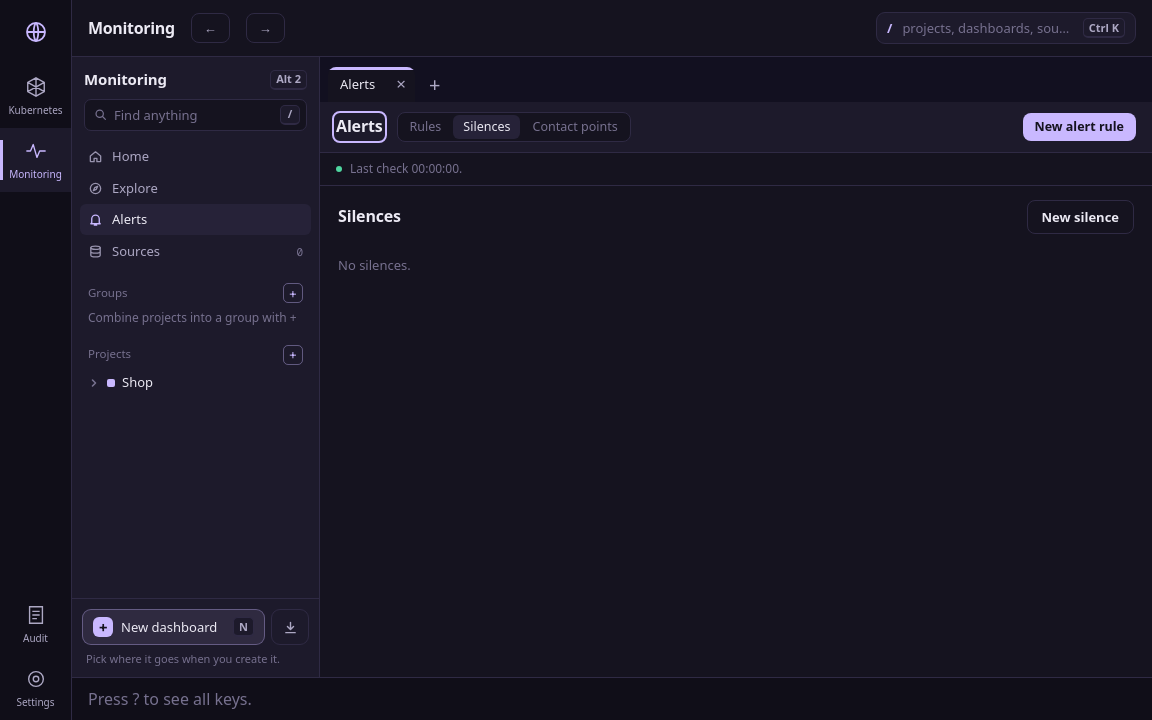
Test: leaving a silence or contact point being written › the sidebar asks first; Stay keeps it, Discard changes leaves
The width and height of the screenshot is (1152, 720).
Click the button "New silence". click: (1080, 217)
box: [1026,200,1134,234]
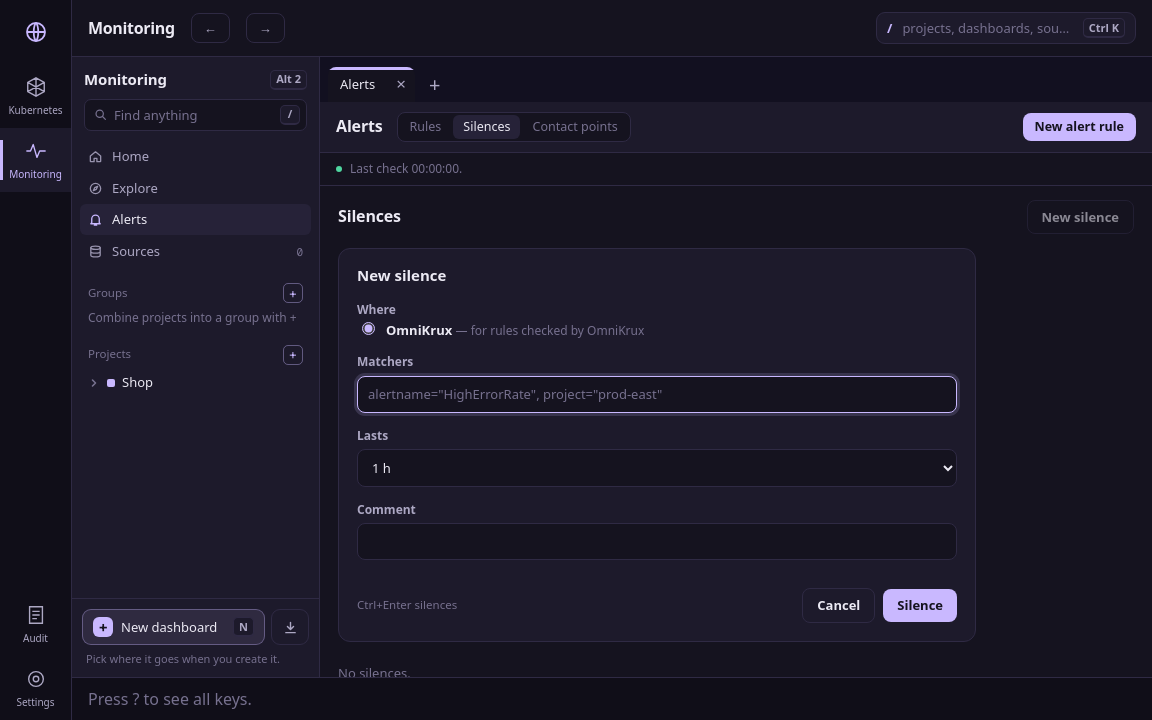
Type "alertname=\"A\"" into the field labelled "Matchers". click: (657, 394)
box: [357,376,957,412]
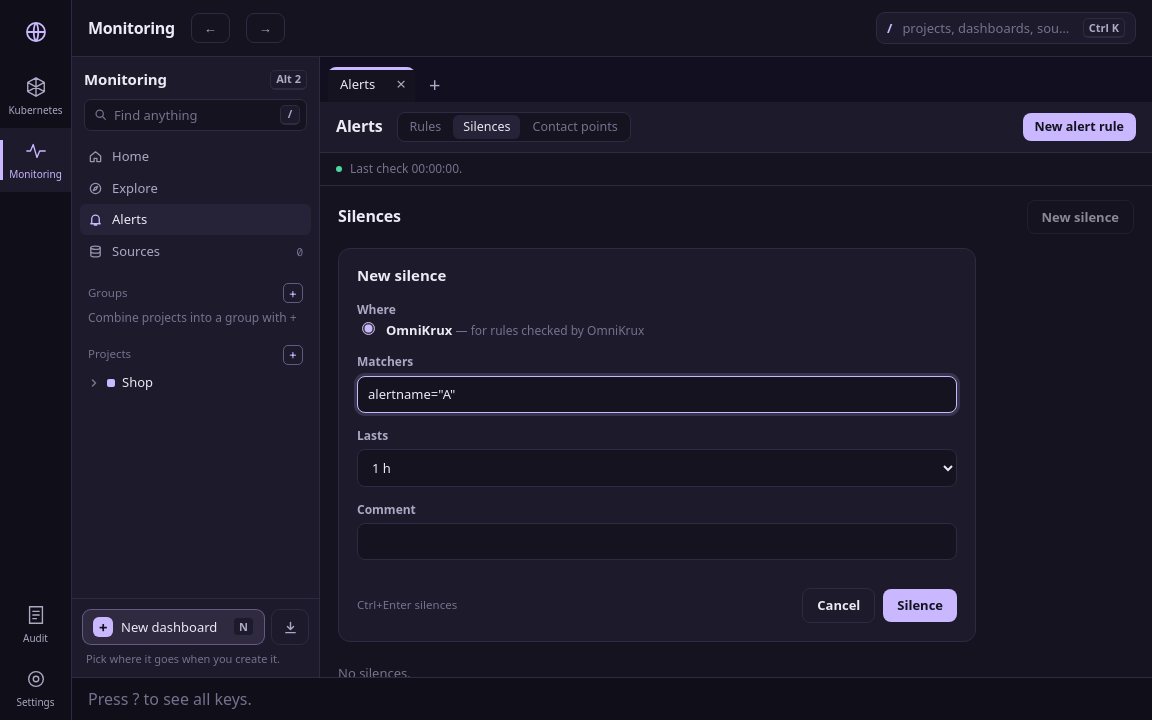
Click the list item "Shop". click: (121, 382)
box: [89,373,153,391]
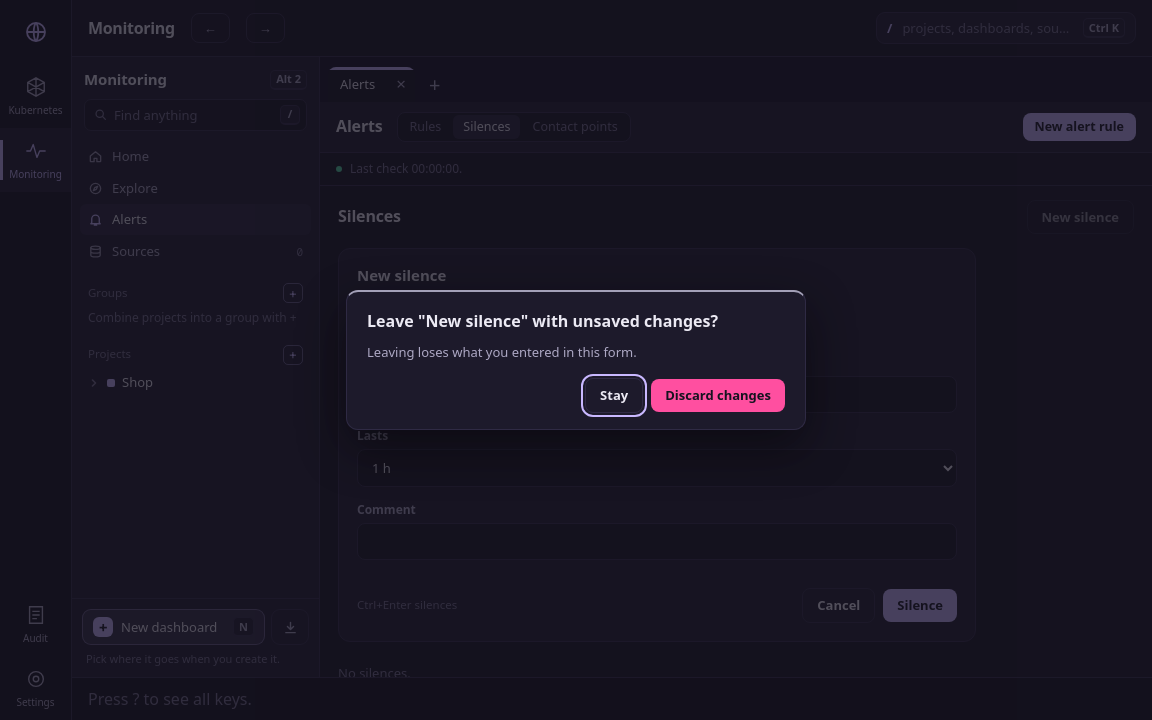
Result: the text "Leaving loses what you entered in this form." is shown at [367,343,637,361]
Click the button "Stay". click: (614, 395)
box: [585,378,643,412]
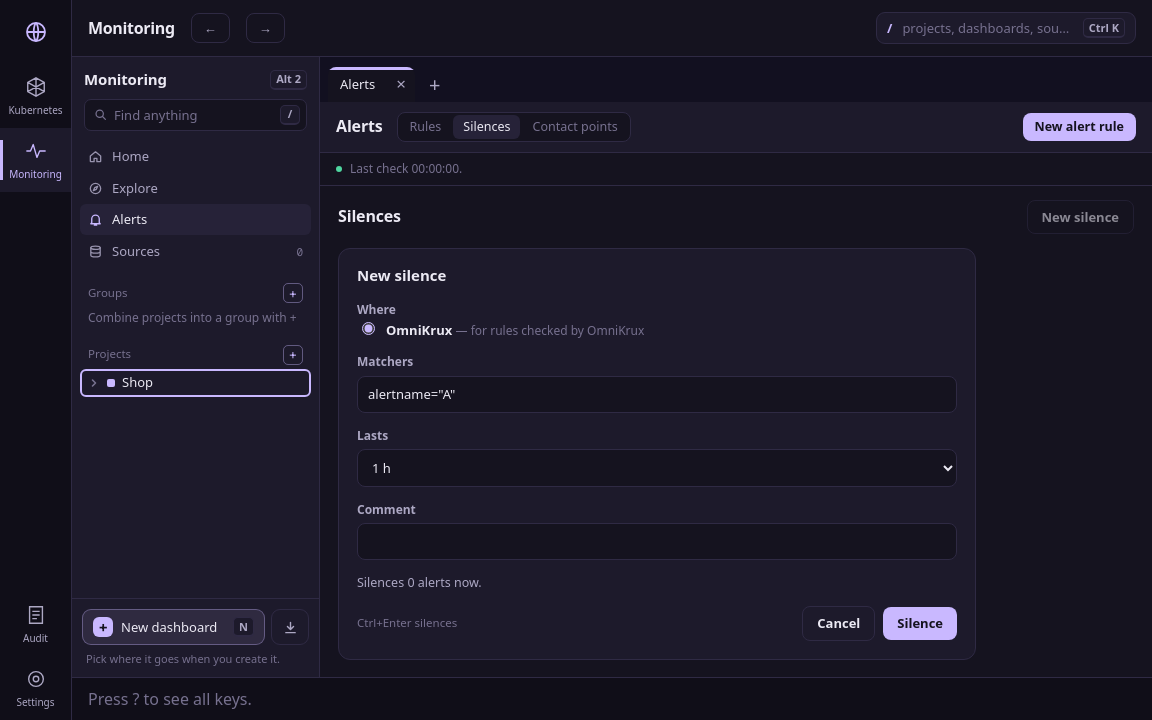
Click the list item "Shop". click: (121, 382)
box: [89,373,153,391]
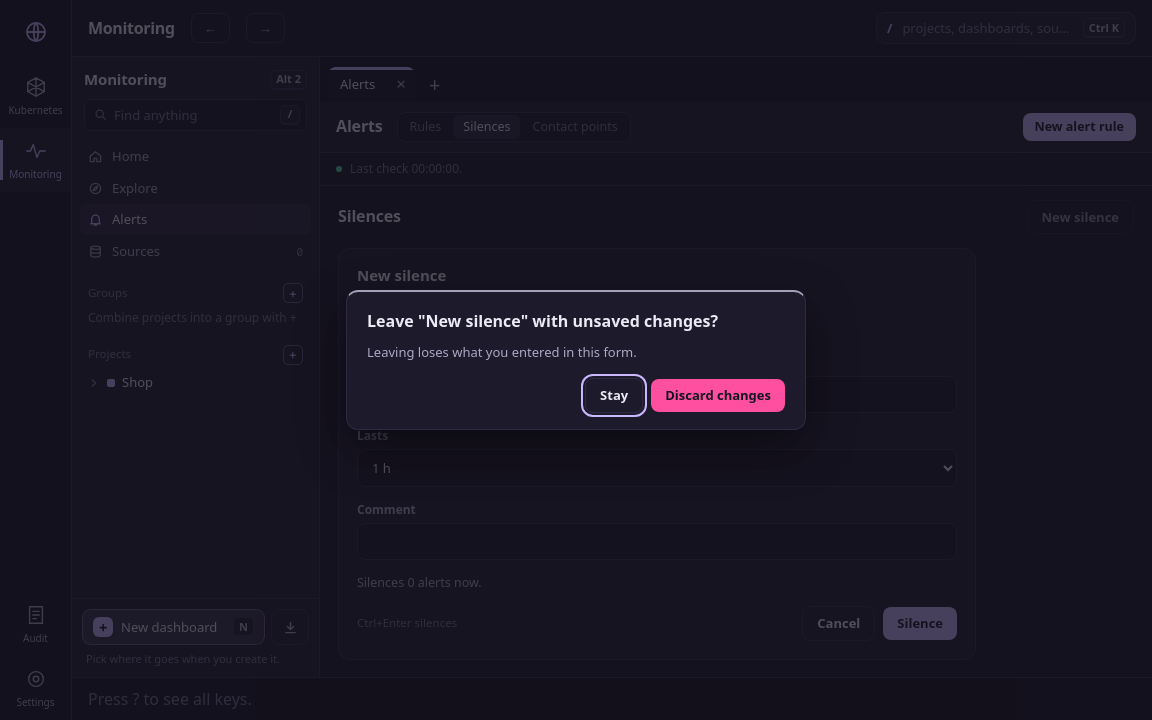
Click the button "Discard changes". click: (718, 395)
box: [651,379,785,412]
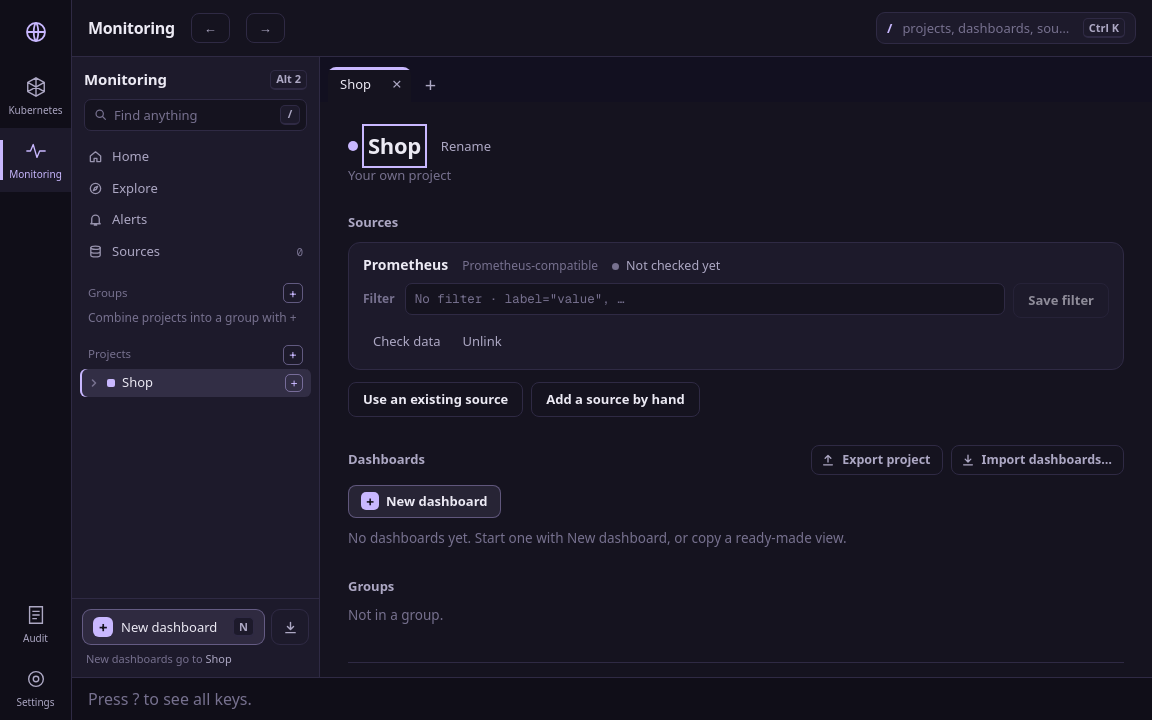
Result: the heading "Shop" is shown at [368,130,421,162]
